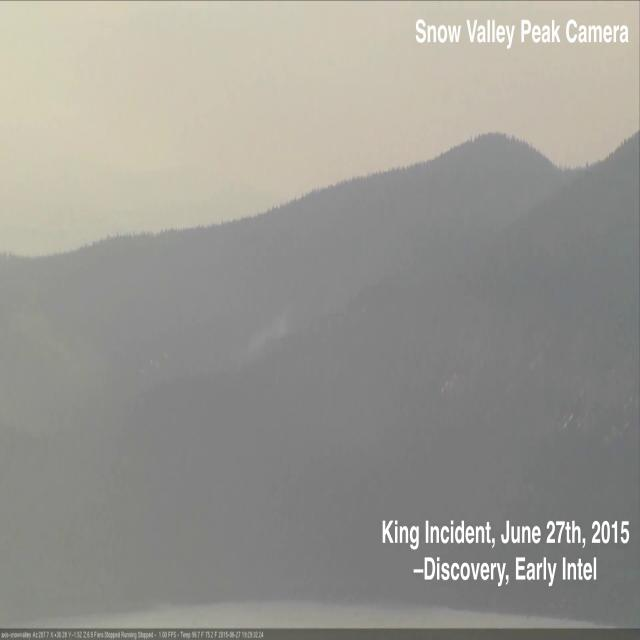smoke: (238, 304, 292, 374)
